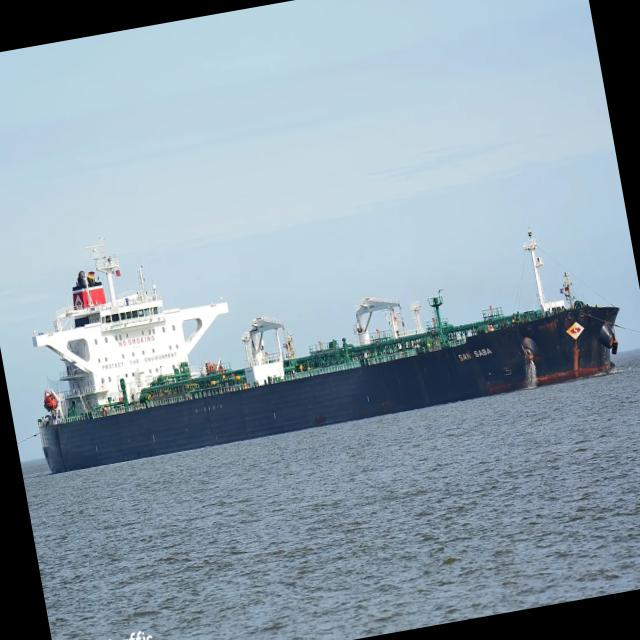Tanker: (32, 228, 618, 472)
